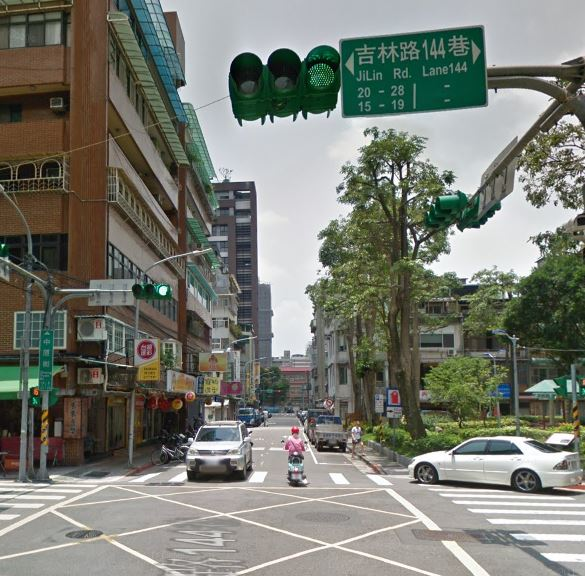Traffic_light_green: (226, 42, 342, 124), (132, 282, 174, 301)
car: (405, 420, 584, 493), (184, 419, 255, 482)
